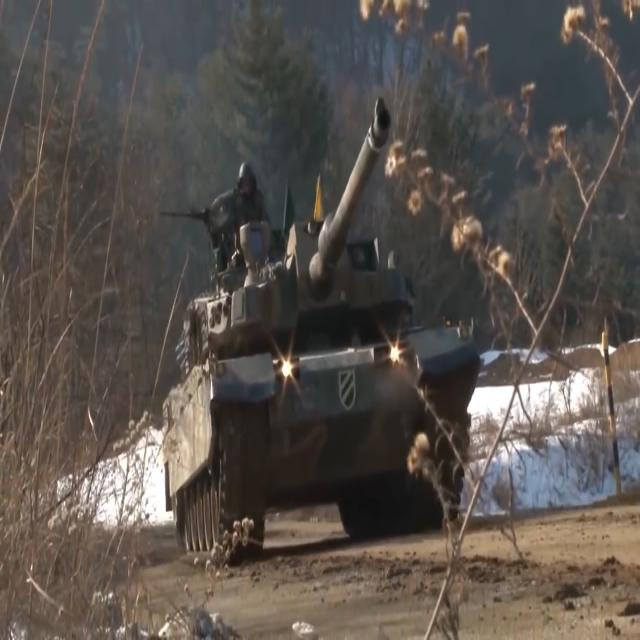korea tank: (163, 98, 479, 554)
